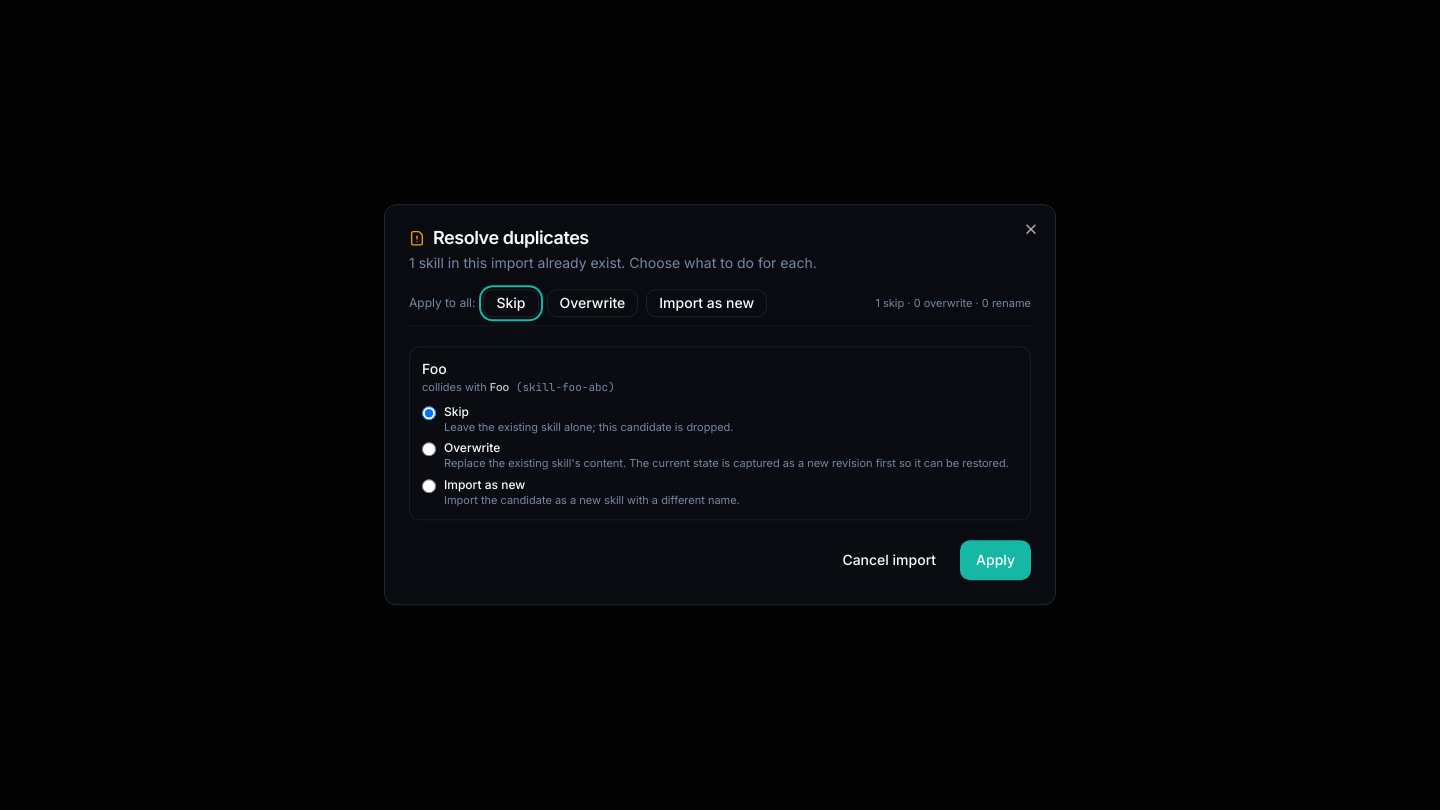
Test: ImportConflictDialog — per-row mutation › switching to Rename auto-fills a unique suggestion
Click the radio button with test id "import-conflict-cand-1-rename" at x=429, y=486, box 422,479 -> 436,493
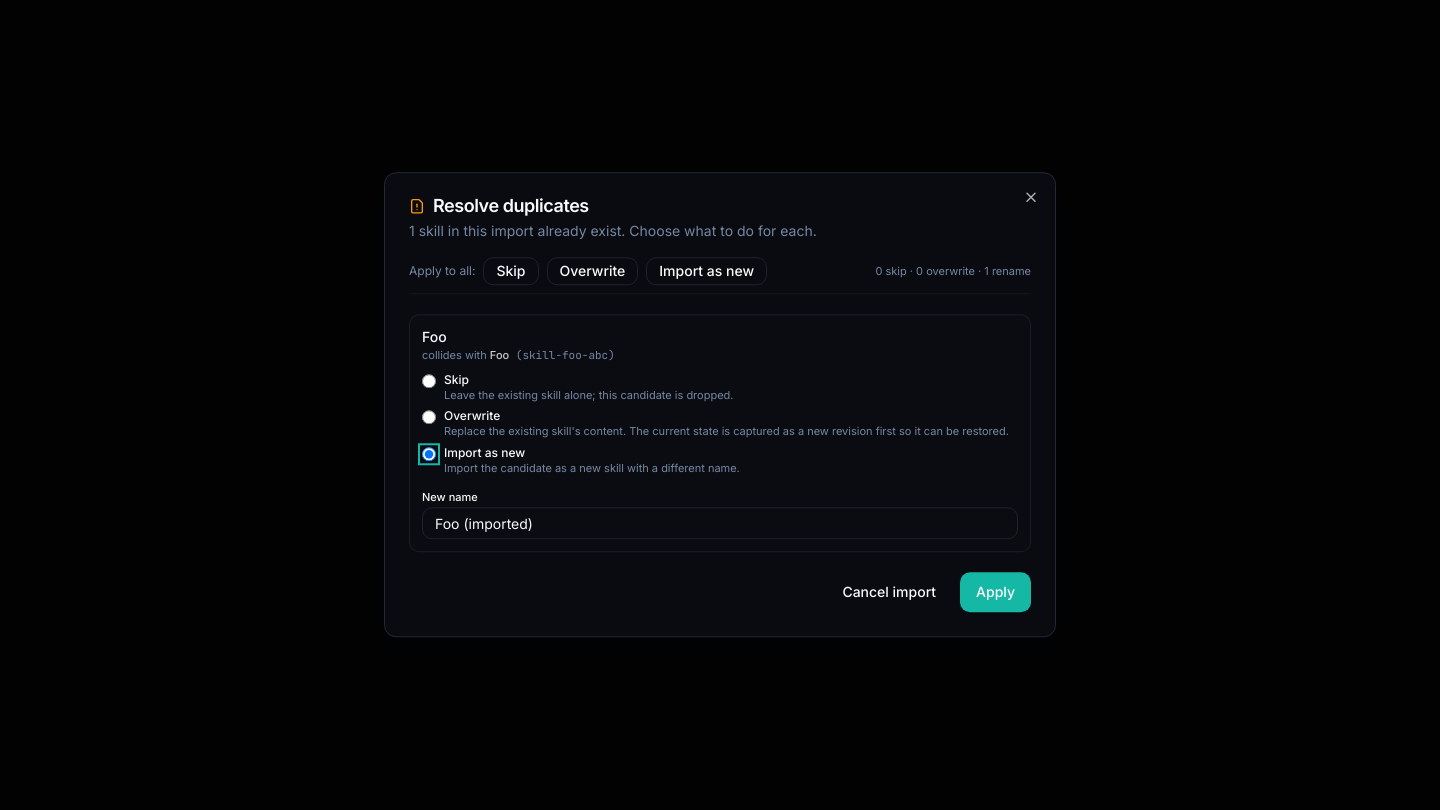
Expected: the field with test id "import-conflict-cand-1-rename-input" holds "Foo (imported)", 422,508 -> 1018,540
